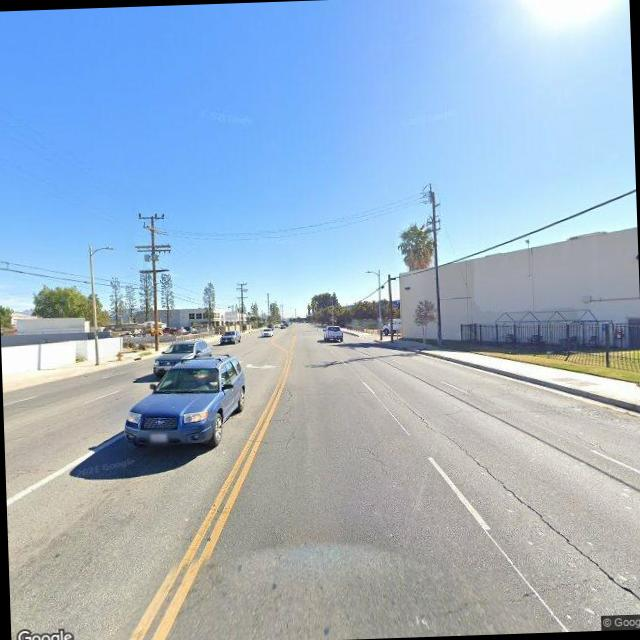pothole: (397, 387, 640, 610), (356, 441, 392, 482), (274, 383, 294, 452)
